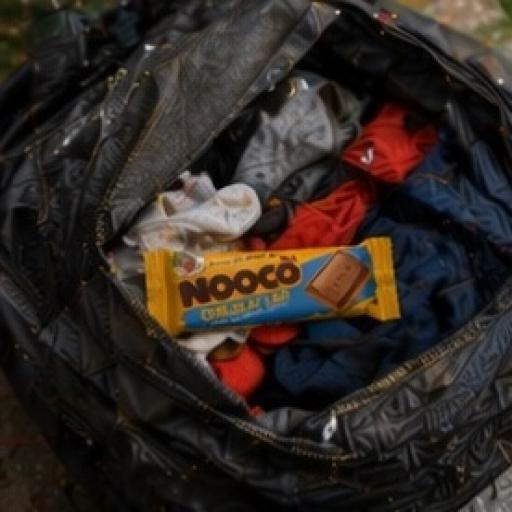biscuit-detection: (124, 195, 434, 358)
